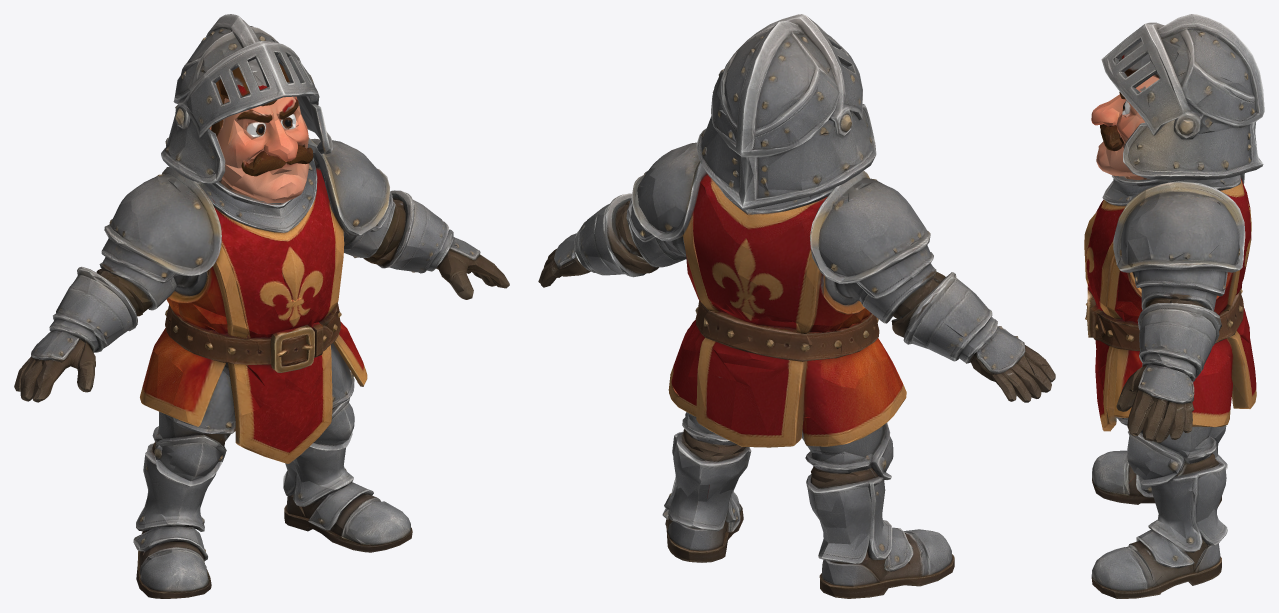
File: knight.fbx
3 views of the same model, side by side, from view 1: azimuth 30°, elevation 25°; view 2: azimuth 150°, elevation 25°; view 3: azimuth 270°, elevation 25° (orthographic). The views are drawn at different scales.
Visible parts, largest first — view 1: knight; view 2: knight; view 3: knight.
Part boxes in pixels (box(x1,y1,x2,y2)): knight: box(14, 14, 509, 598); knight: box(538, 14, 1055, 598); knight: box(1084, 14, 1264, 598).
Bounding box in the file's own units: 1.55 × 1.6 × 0.5033.
Materials: 1 (1 with a texture image).
